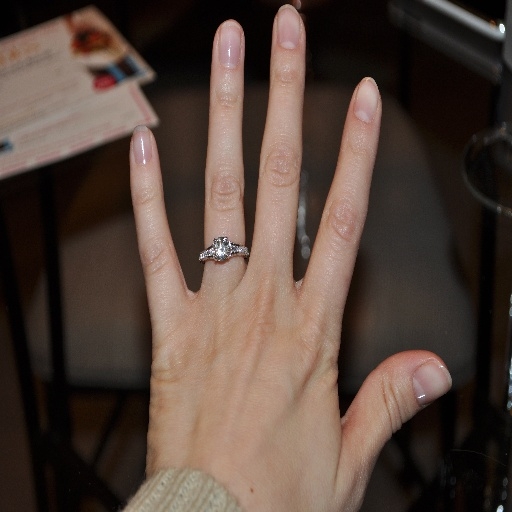hand: (127, 2, 450, 511)
